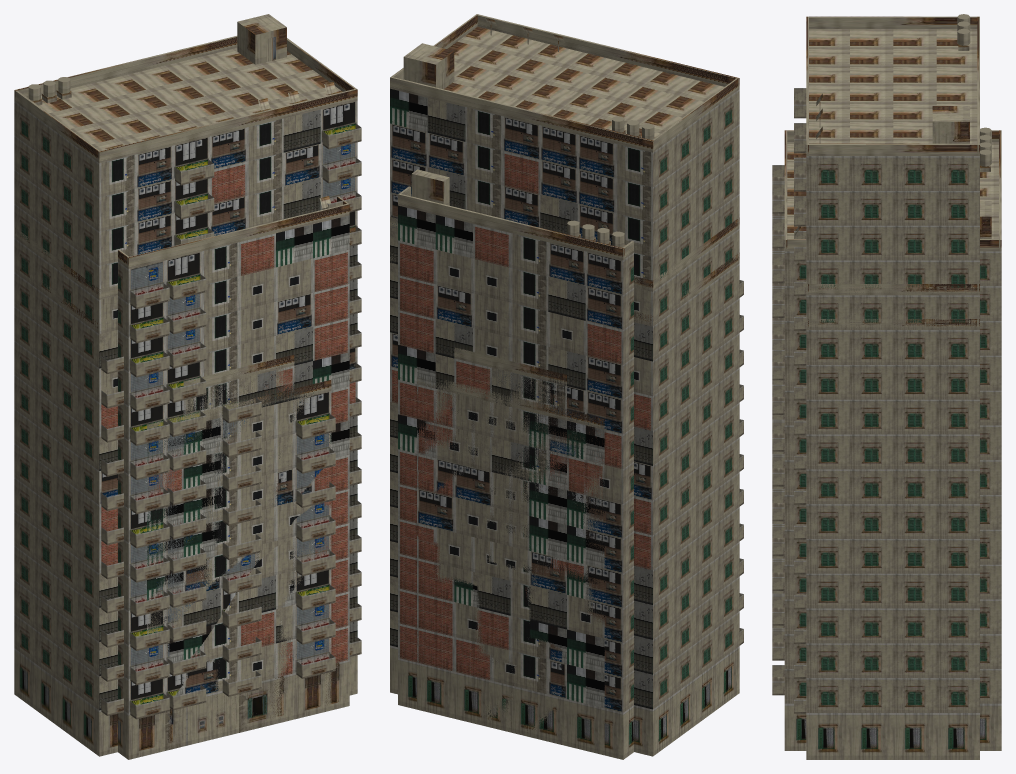
3 renders of one model, left to right at view 1: azimuth 30°, elevation 25°; view 2: azimuth 150°, elevation 25°; view 3: azimuth 270°, elevation 25°, orthographic.
Parts seen in each view (by area): view 1: Plaster_6x5_f13_v0, Plaster_7x4_f16_v0, Plaster_7x4_f12_v0, Plaster_5x5_f8_v0, Plaster_7x4_f11_v0, Plaster_3x5_f9_v0; view 2: Plaster_6x5_f13_v0, Plaster_7x4_f16_v0, Plaster_7x4_f12_v0, Plaster_5x5_f8_v0, Plaster_3x5_f9_v0, Plaster_7x4_f11_v0; view 3: Plaster_7x4_f12_v0, Plaster_7x4_f16_v0, Plaster_6x5_f13_v0, Plaster_5x5_f8_v0, Plaster_7x4_f11_v0, Plaster_3x5_f9_v0.
Part boxes in pixels (x1,y1,x2,y2): Plaster_6x5_f13_v0: (118,196,349,759); Plaster_7x4_f16_v0: (14,14,361,656); Plaster_7x4_f12_v0: (14,226,357,756); Plaster_5x5_f8_v0: (147,380,335,749); Plaster_7x4_f11_v0: (14,262,123,715); Plaster_3x5_f9_v0: (183,354,294,423); Plaster_6x5_f13_v0: (398,169,633,759); Plaster_7x4_f16_v0: (390,14,739,291); Plaster_7x4_f12_v0: (390,216,739,756); Plaster_5x5_f8_v0: (417,376,604,755); Plaster_3x5_f9_v0: (454,347,566,420); Plaster_7x4_f11_v0: (390,252,743,645); Plaster_7x4_f12_v0: (806,284,979,759); Plaster_7x4_f16_v0: (794,14,979,713); Plaster_6x5_f13_v0: (772,127,1001,750); Plaster_5x5_f8_v0: (772,384,784,695); Plaster_7x4_f11_v0: (806,319,979,329); Plaster_3x5_f9_v0: (772,350,784,380).
Size of the model in its own units: 24.5 by 56.5 by 18.5.
1 material, 1 textured.
